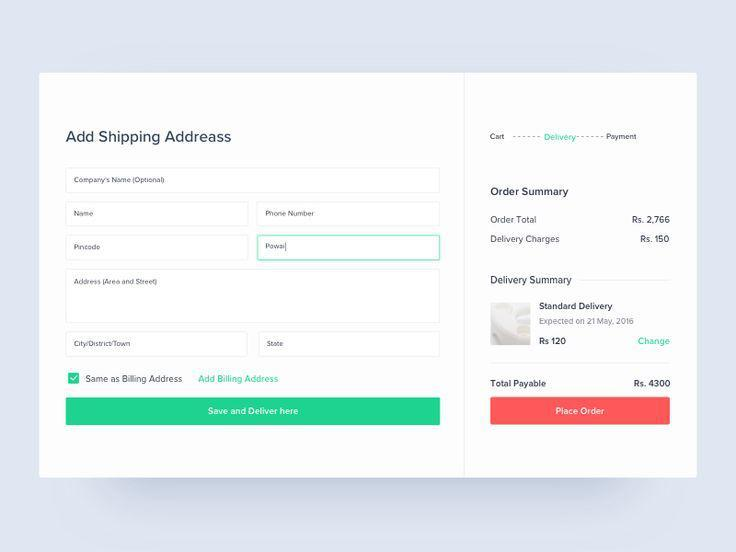button: (66, 396, 443, 427), (489, 396, 672, 428)
checkbox: (67, 371, 81, 387)
input: (64, 168, 442, 194), (260, 330, 443, 360), (64, 233, 250, 262), (65, 200, 250, 229), (256, 201, 441, 229), (65, 332, 250, 359), (258, 236, 441, 263)
label: (87, 375, 292, 388)
